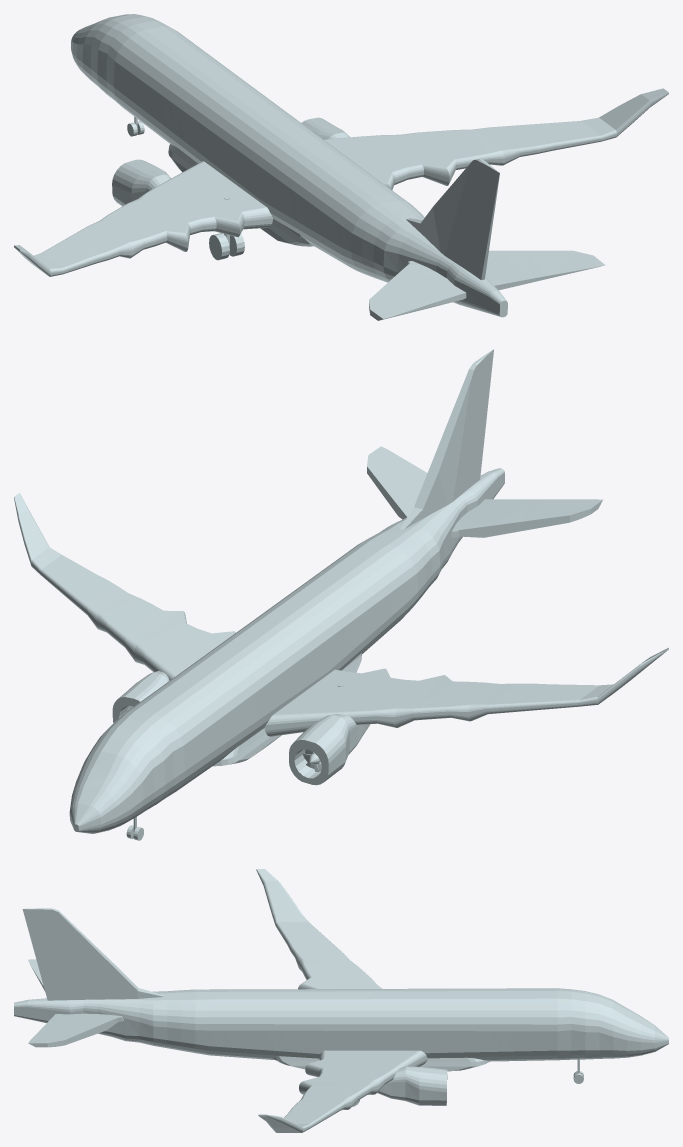
The picture shows the model from 3 angles, top to bottom: view 1: azimuth 30°, elevation 25°; view 2: azimuth 150°, elevation 25°; view 3: azimuth 270°, elevation 25°; orthographic projection. The views are drawn at different scales.
Visible parts, largest first — view 1: Aircraft visual hull, Landing gear; view 2: Aircraft visual hull; view 3: Aircraft visual hull.
Boxes of the visible parts, box(x1,y1,x2,y2) form: Aircraft visual hull: box(14, 14, 668, 320); Landing gear: box(127, 117, 244, 260); Aircraft visual hull: box(14, 349, 668, 833); Aircraft visual hull: box(14, 869, 668, 1132).
Bounding box in the file's own units: 28.7 × 9.54 × 32.58.
